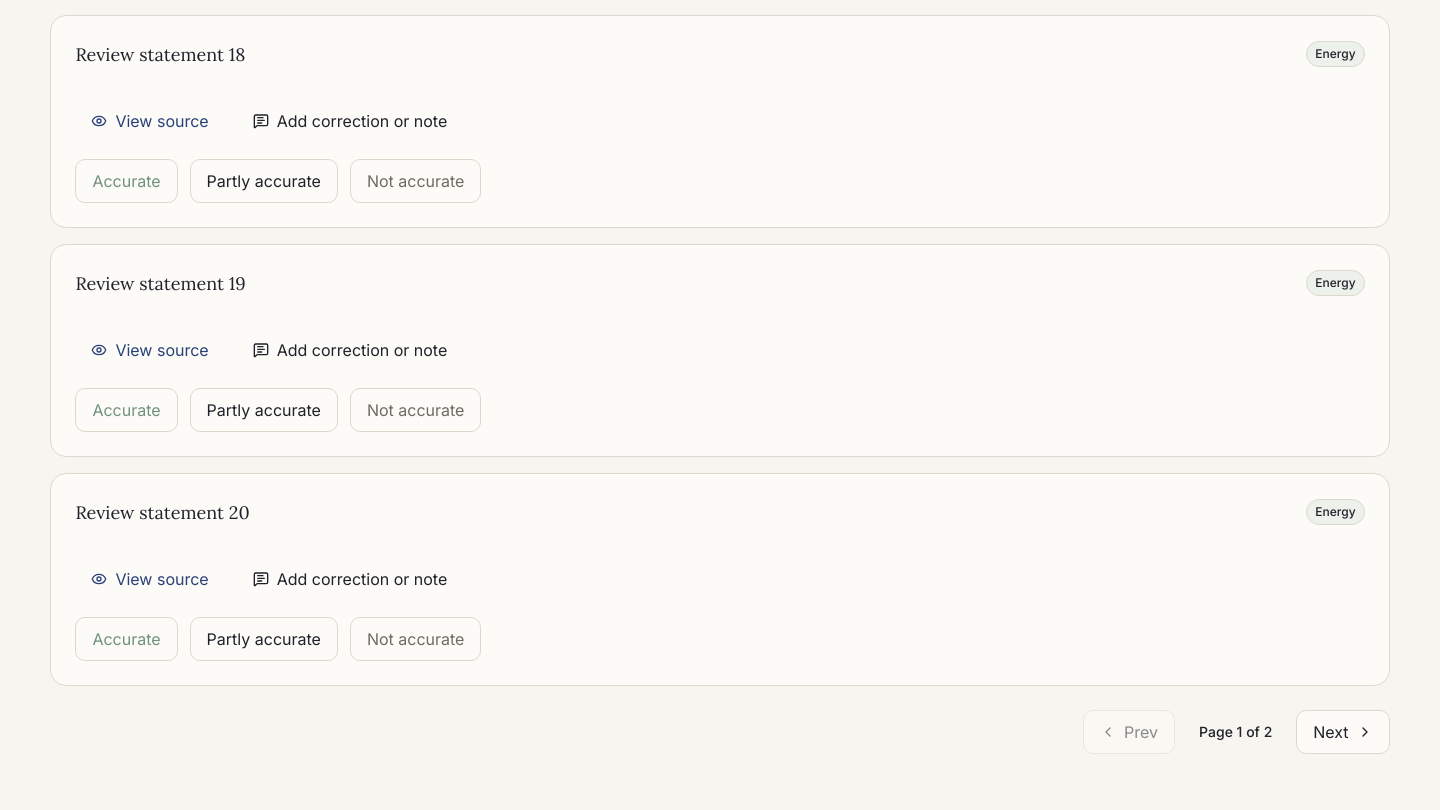
Scenario: ReviewScreen › uses fixed pagination and requests the selected one-based page
This screenshot has width=1440, height=810.
(page scrolled)
Expected: the text "Page 1 of 2" is shown, [1199, 722, 1272, 742]
Click the button "Next" at (1343, 732), box [1296, 710, 1390, 754]
(page scrolled)
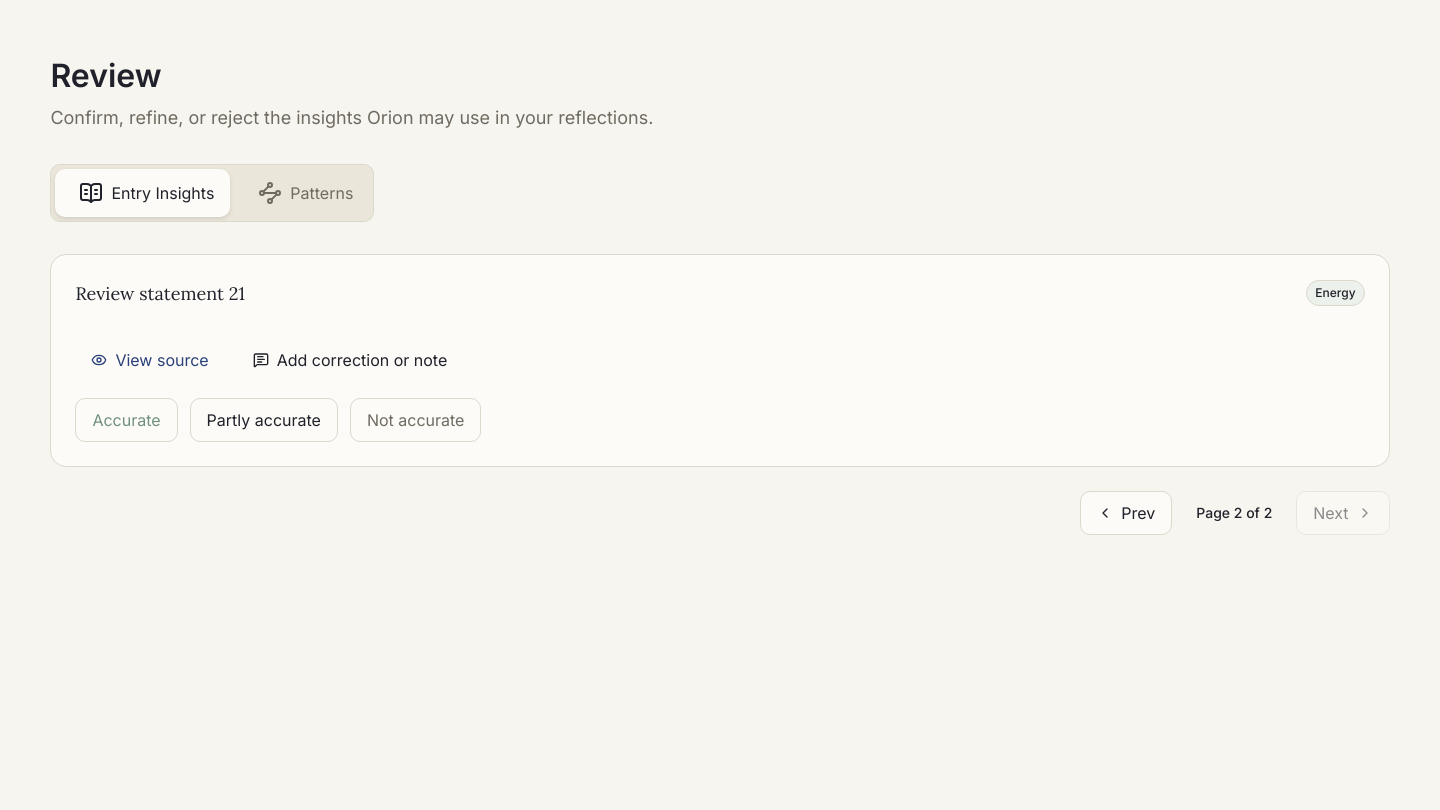
Expected: the text "Review statement 21" is shown, [75, 282, 245, 305]
